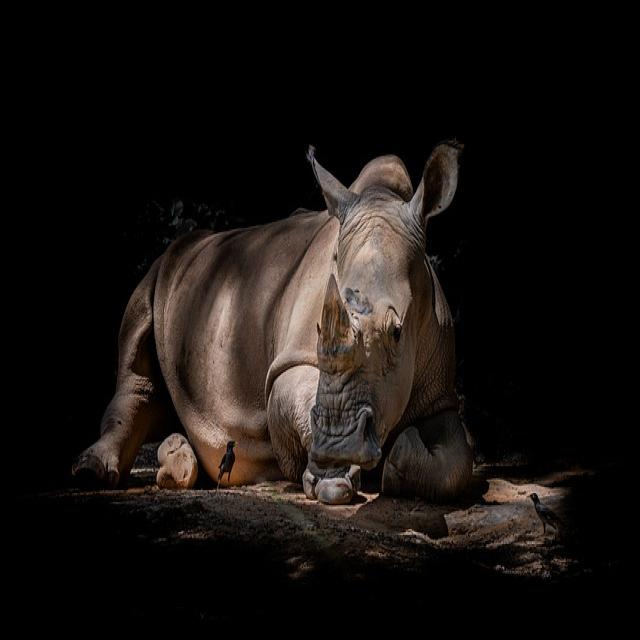Herbivorous: (72, 138, 487, 508)
